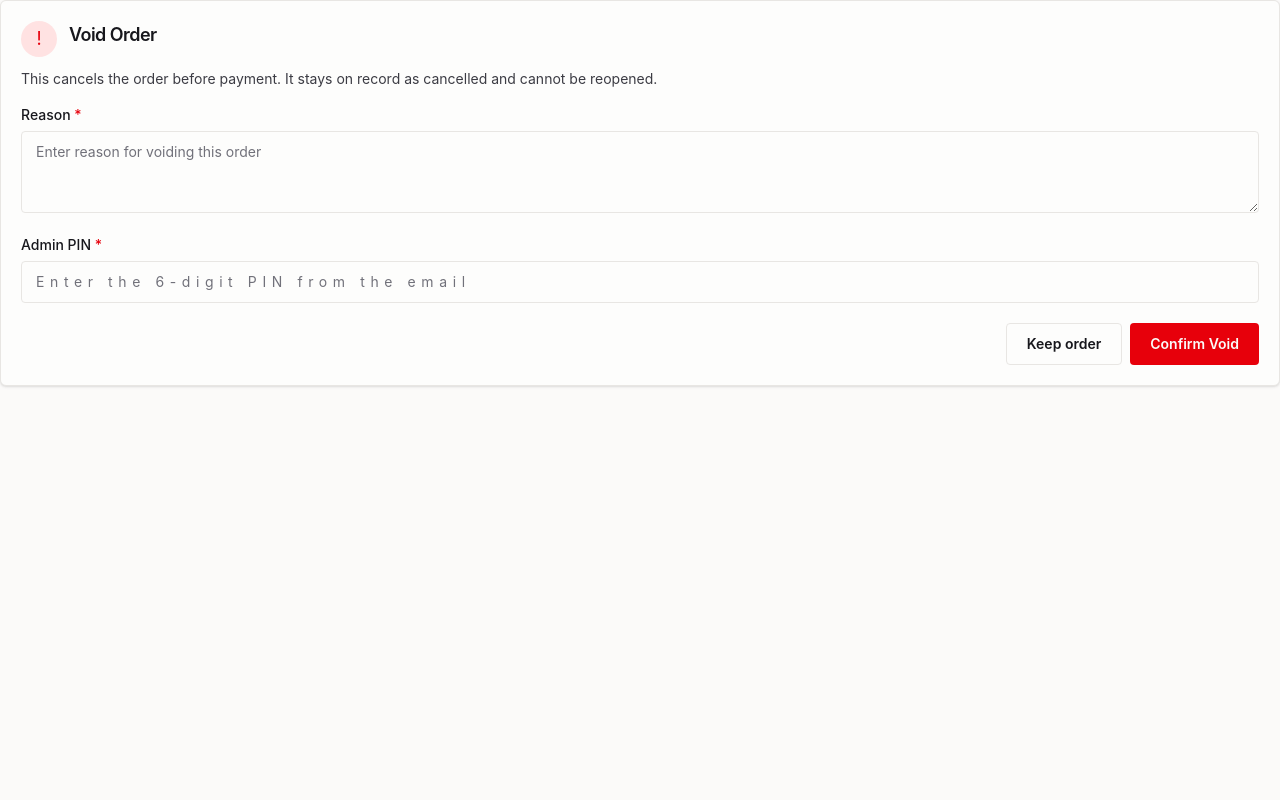
VoidDialog › Requirement 21.2: PIN required after free void window › should validate reason before PIN
Type "123456" into the password field with test id "void-pin-input".
click(640, 282); type("123456")  # box [21,261,1259,303]
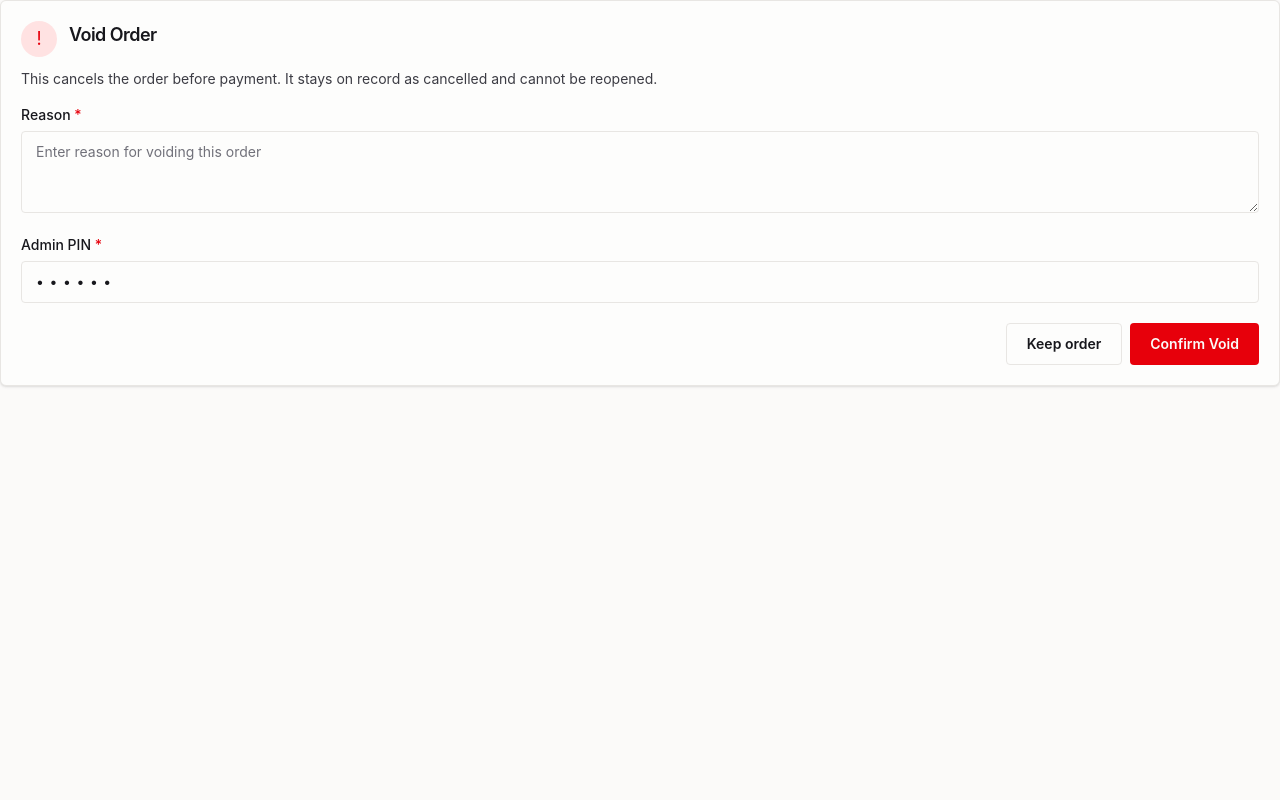
Click the button with test id "void-confirm-btn".
click(1195, 344)  # box [1130,323,1259,365]
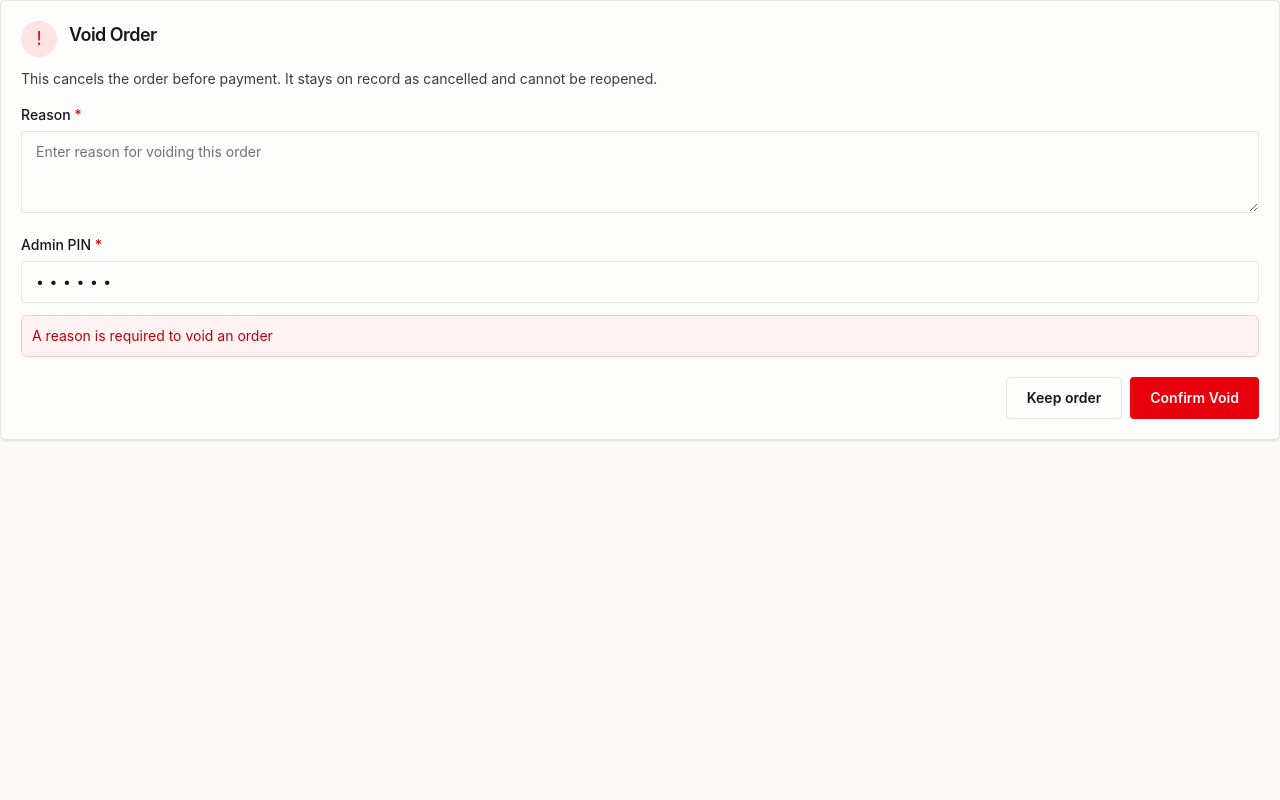
Check: the message with test id "void-error" reads "A reason is required to void an order", box [32,327,273,344]
